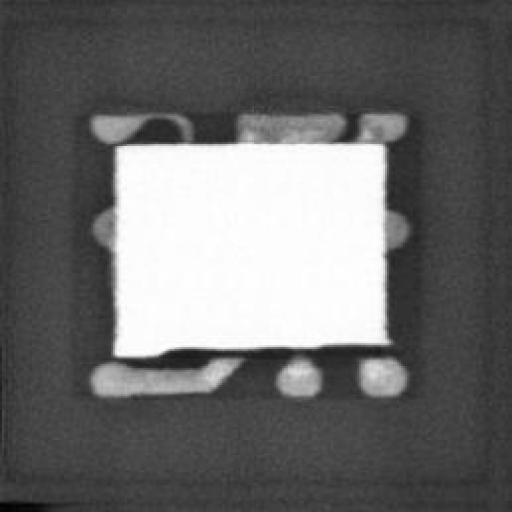DIE_BROKEN: (153, 340, 393, 356)
